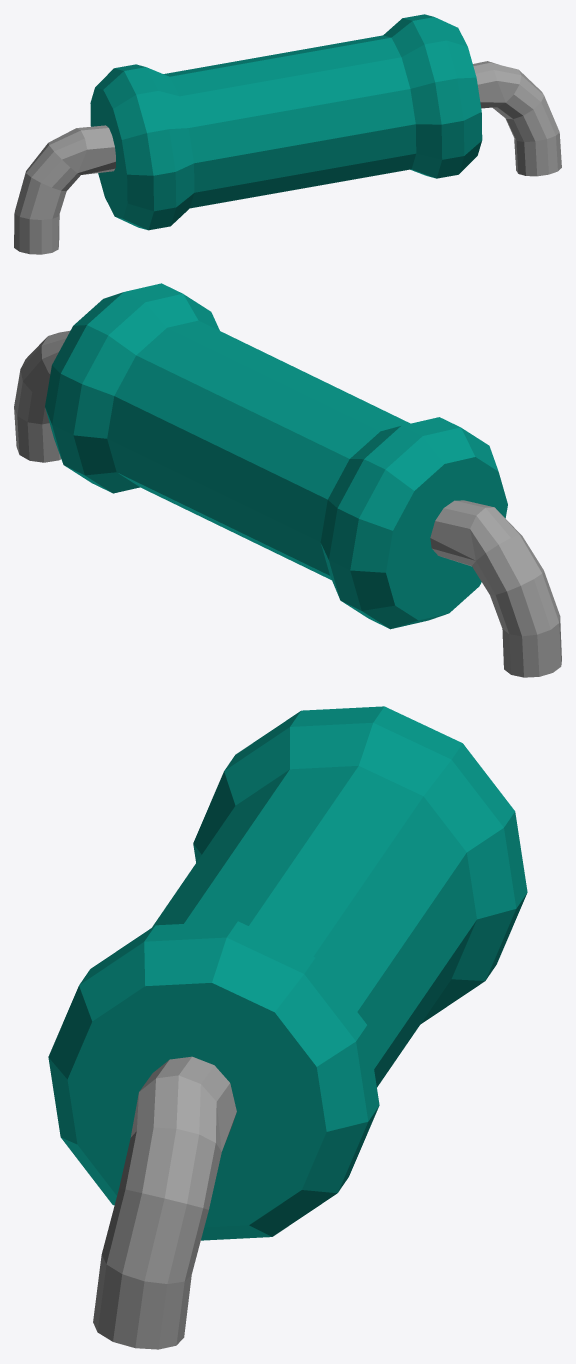
Rendered from green.glb.
3 renders of one model, top to bottom at view 1: azimuth 30°, elevation 25°; view 2: azimuth 150°, elevation 25°; view 3: azimuth 270°, elevation 25°, orthographic. The views are drawn at different scales.
Visible parts, largest first — view 1: group203733342, group1774835171, group1380849828; view 2: group203733342, group1774835171, group1380849828; view 3: group203733342, group1380849828.
Boxes of the visible parts, <box> form: group203733342: <box>90,14,482,230</box>; group1774835171: <box>14,125,115,254</box>; group1380849828: <box>473,61,561,176</box>; group203733342: <box>45,283,507,629</box>; group1774835171: <box>430,500,561,677</box>; group1380849828: <box>14,331,69,462</box>; group203733342: <box>48,706,527,1240</box>; group1380849828: <box>93,1056,236,1349</box>.
Size of the model in its own units: 0.2396 by 0.0829 by 0.1037.
